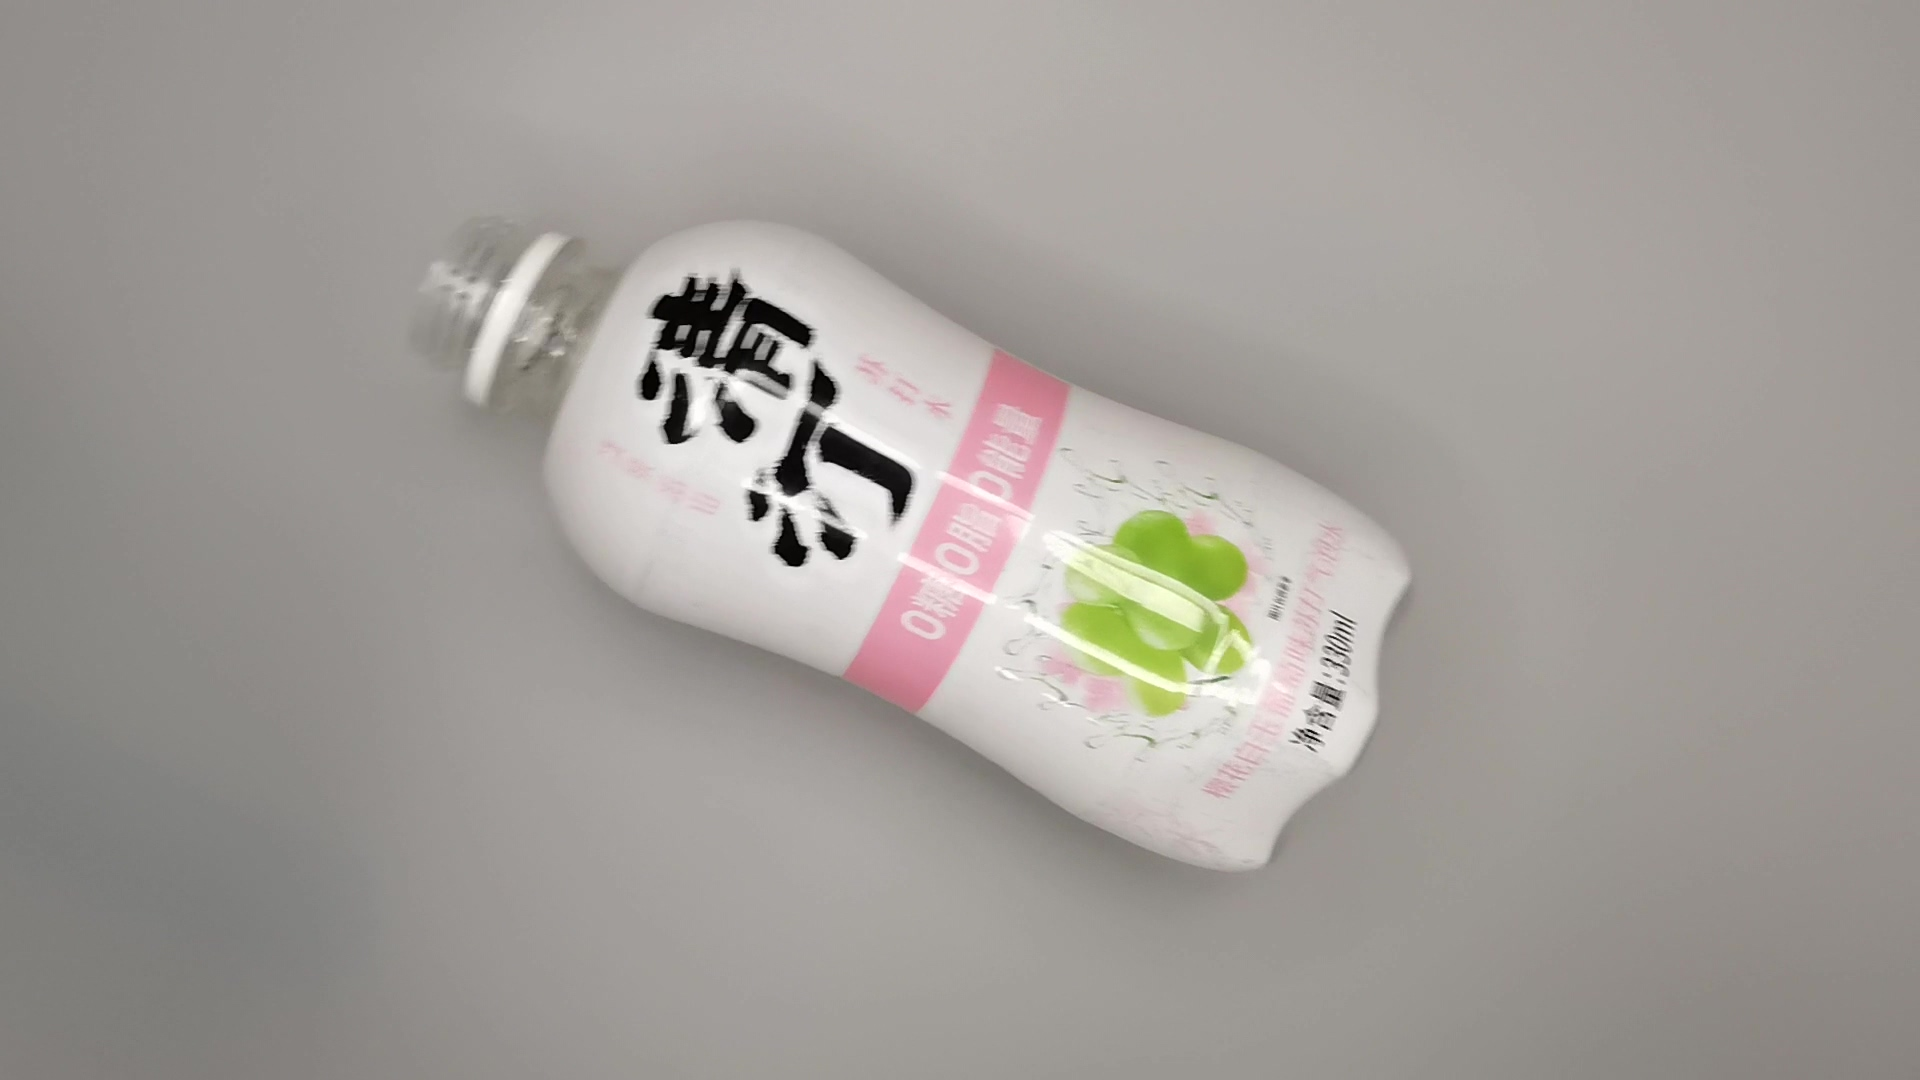bottle: (389, 204, 1428, 890)
